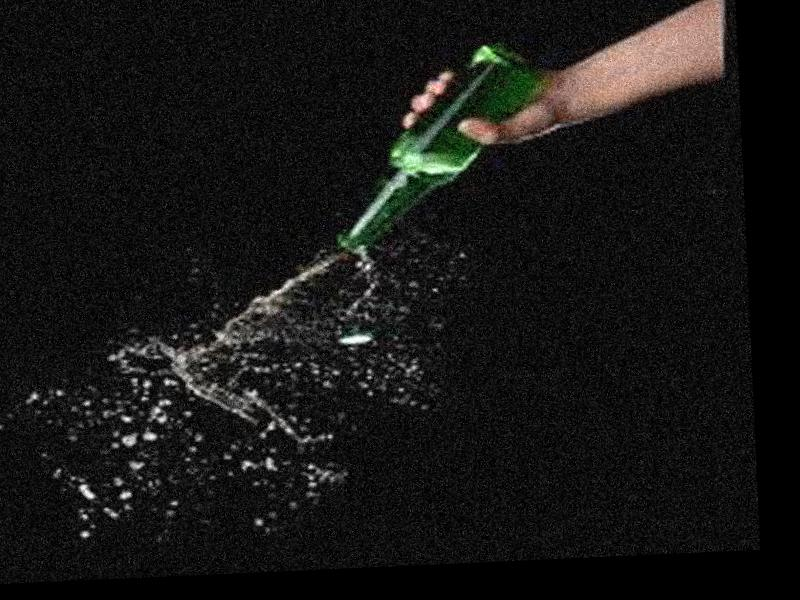Beer: (332, 37, 557, 254)
